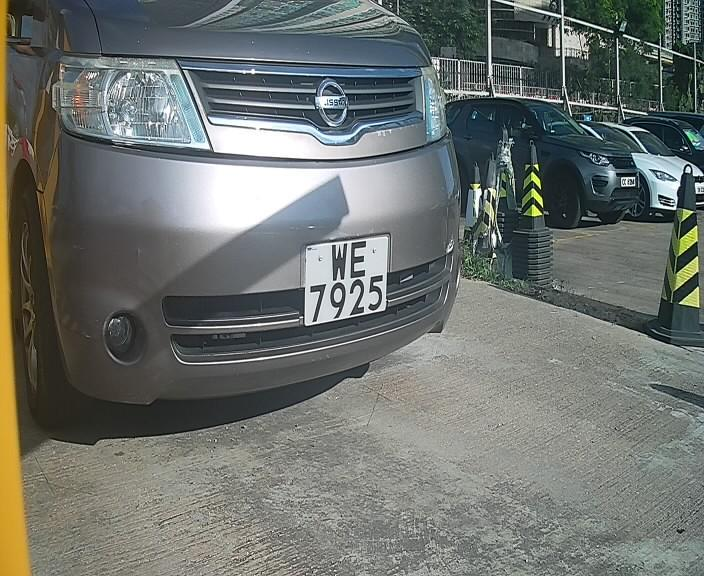privatecar: (10, 3, 472, 422)
